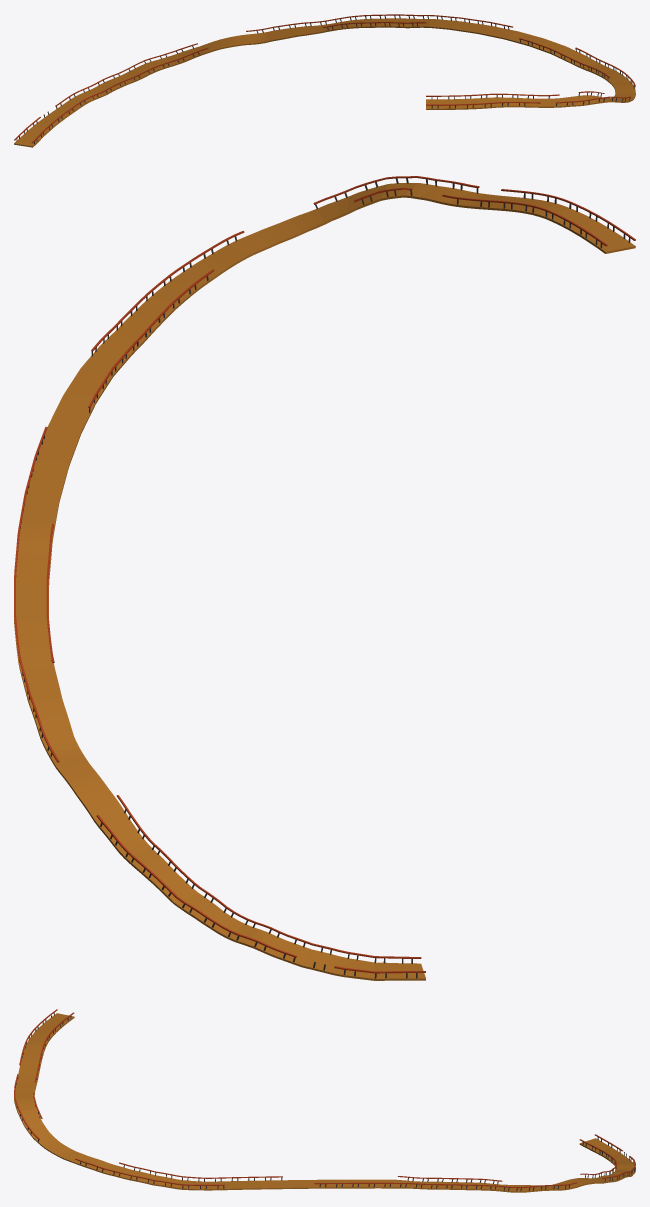
File: Underbridge.fbx
The picture shows the model from 3 angles, top to bottom: view 1: azimuth 30°, elevation 25°; view 2: azimuth 150°, elevation 25°; view 3: azimuth 270°, elevation 25°; orthographic projection. The views are drawn at different scales.
Visible parts, largest first — view 1: Cube.005; view 2: Cube.005; view 3: Cube.005.
Boxes of the visible parts, x1,y1,x2,y2 form: Cube.005: [14, 14, 635, 147]; Cube.005: [14, 176, 635, 980]; Cube.005: [14, 1009, 635, 1192].
Bounding box in the file's own units: 11100 × 5570 × 15505.
